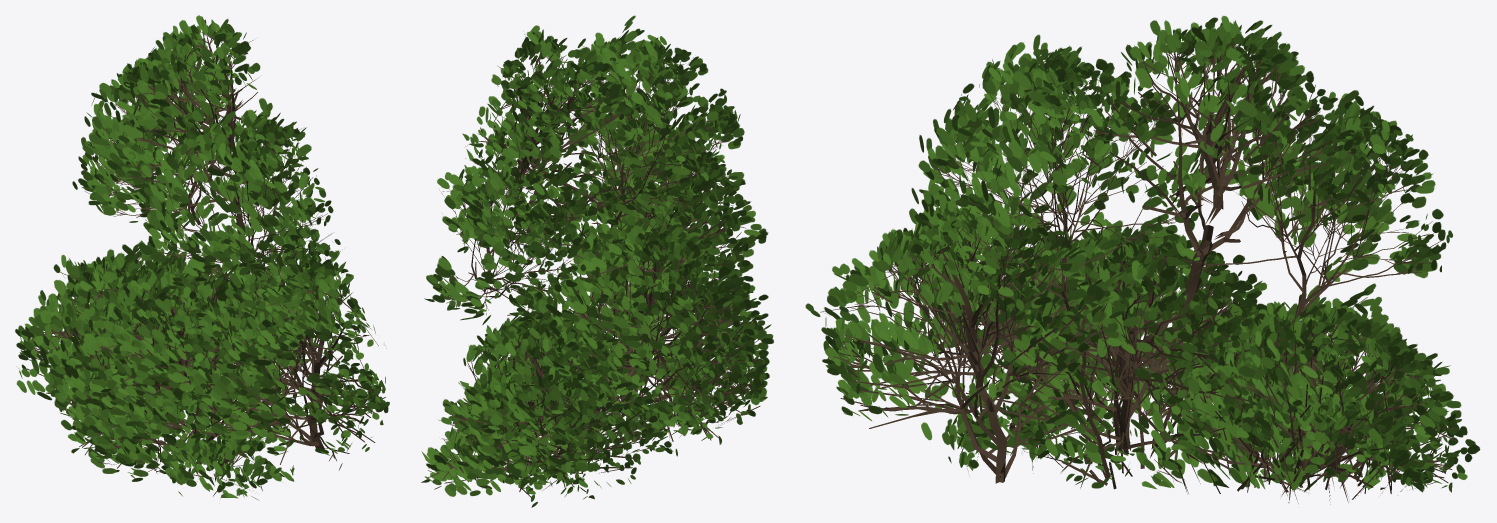
3 views of the same model, side by side, from view 1: azimuth 30°, elevation 25°; view 2: azimuth 150°, elevation 25°; view 3: azimuth 270°, elevation 25° (orthographic). The views are drawn at different scales.
Visible parts, largest first — view 1: oak 01.001_trunk_Mat.001_0.450; view 2: oak 01.001_trunk_Mat.001_0.450; view 3: oak 01.001_trunk_Mat.001_0.450.
Boxes of the visible parts, bbox=[...] form: oak 01.001_trunk_Mat.001_0.450: bbox=[15, 15, 389, 500]; oak 01.001_trunk_Mat.001_0.450: bbox=[421, 15, 773, 507]; oak 01.001_trunk_Mat.001_0.450: bbox=[805, 16, 1480, 504].
Size of the model in its own units: 2.31 by 3.98 by 4.98.
2 materials, 1 textured.
